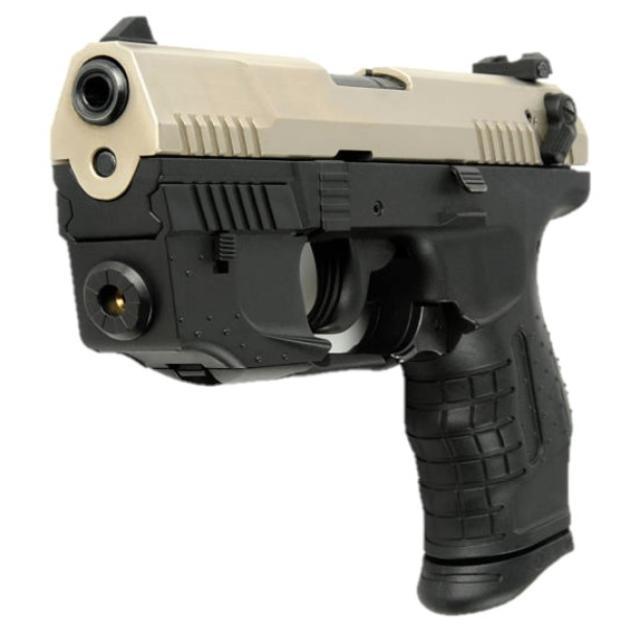pistol: (47, 10, 599, 622)
